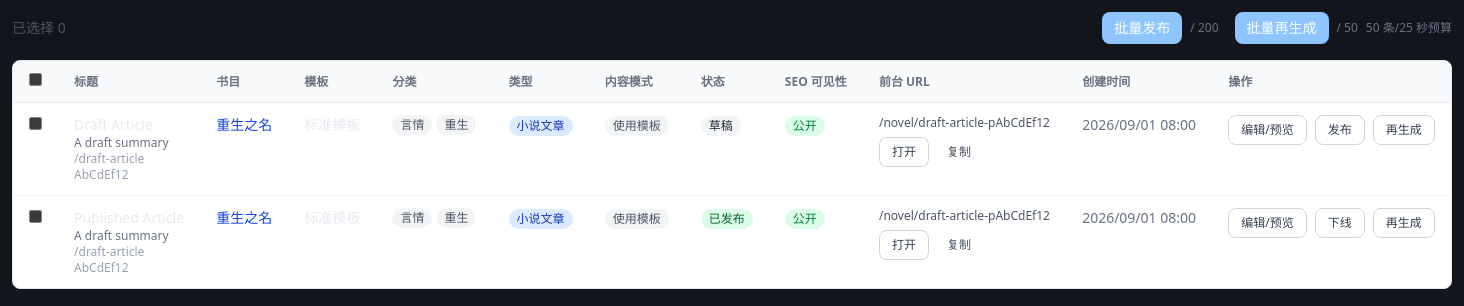
it: ArticleList · 列表与批量 › 勾选行驱动已选计数
Expected: the text "已选择 0" is shown, [12,18,66,38]
Step 1. Click the checkbox named "选择 Draft Article" → [36, 124], box [29,117,42,130]
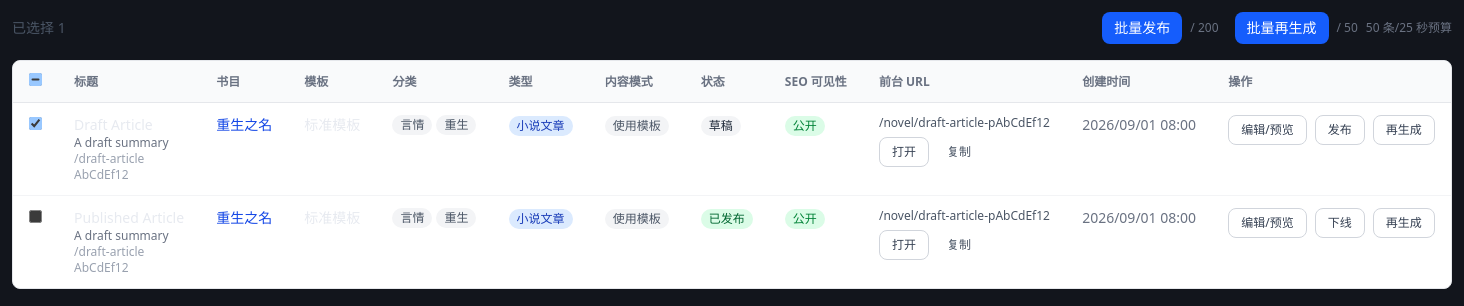
Expected: the text "已选择 1" is shown, [12,18,66,38]
